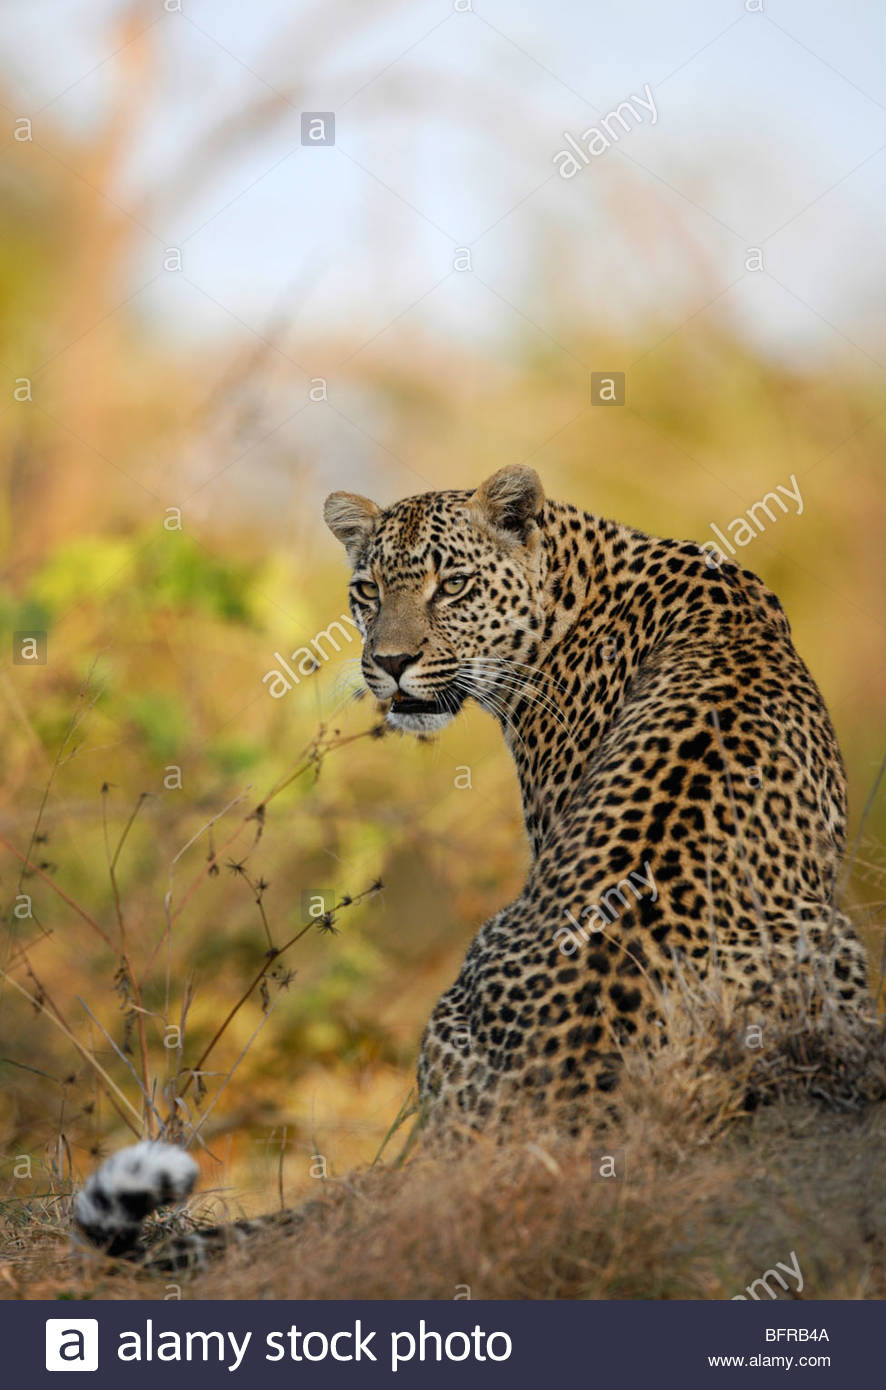leopard: (304, 467, 877, 1171)
